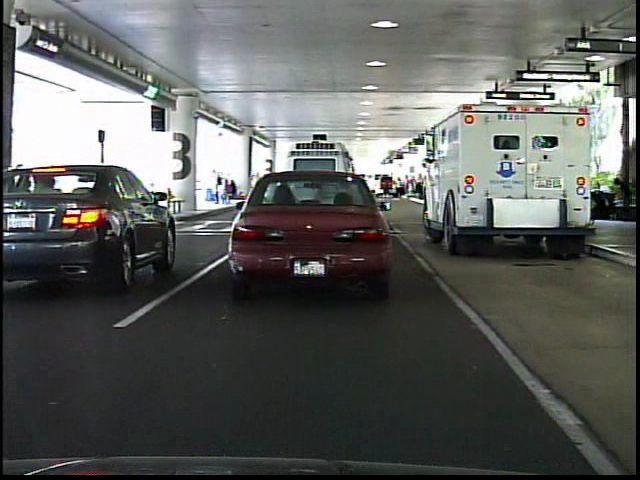person: (246, 170, 261, 187)
